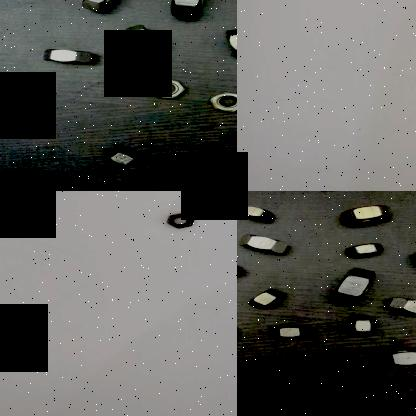NUTS: (328, 262, 380, 304), (334, 200, 396, 228), (240, 228, 292, 260), (119, 21, 165, 57), (369, 340, 416, 369), (237, 194, 277, 228), (34, 47, 98, 67), (338, 238, 389, 262), (0, 112, 44, 138), (249, 286, 288, 314), (103, 144, 146, 169), (140, 78, 188, 100), (168, 0, 214, 22), (384, 295, 416, 325), (206, 87, 237, 113), (264, 324, 308, 342), (344, 314, 376, 338), (162, 211, 196, 231), (79, 0, 121, 16), (220, 24, 237, 60), (407, 249, 416, 273)
